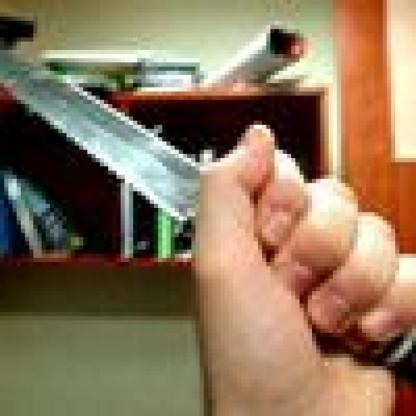Knife: (0, 41, 416, 379)
